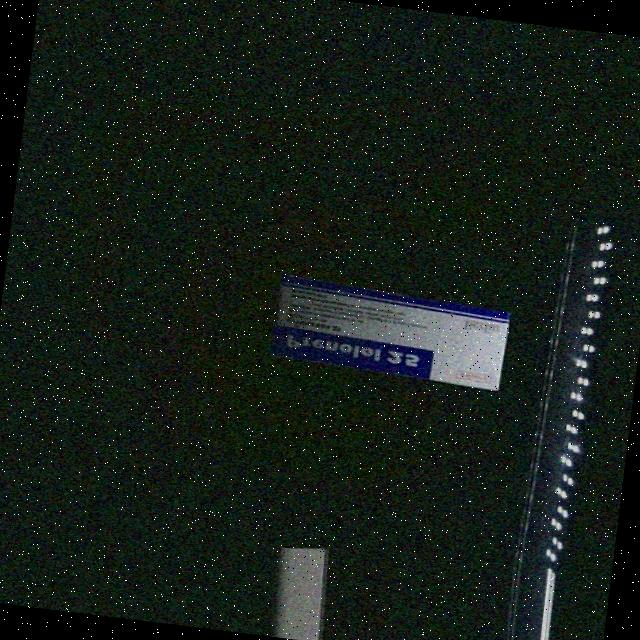prenolol: (267, 273, 508, 395)
